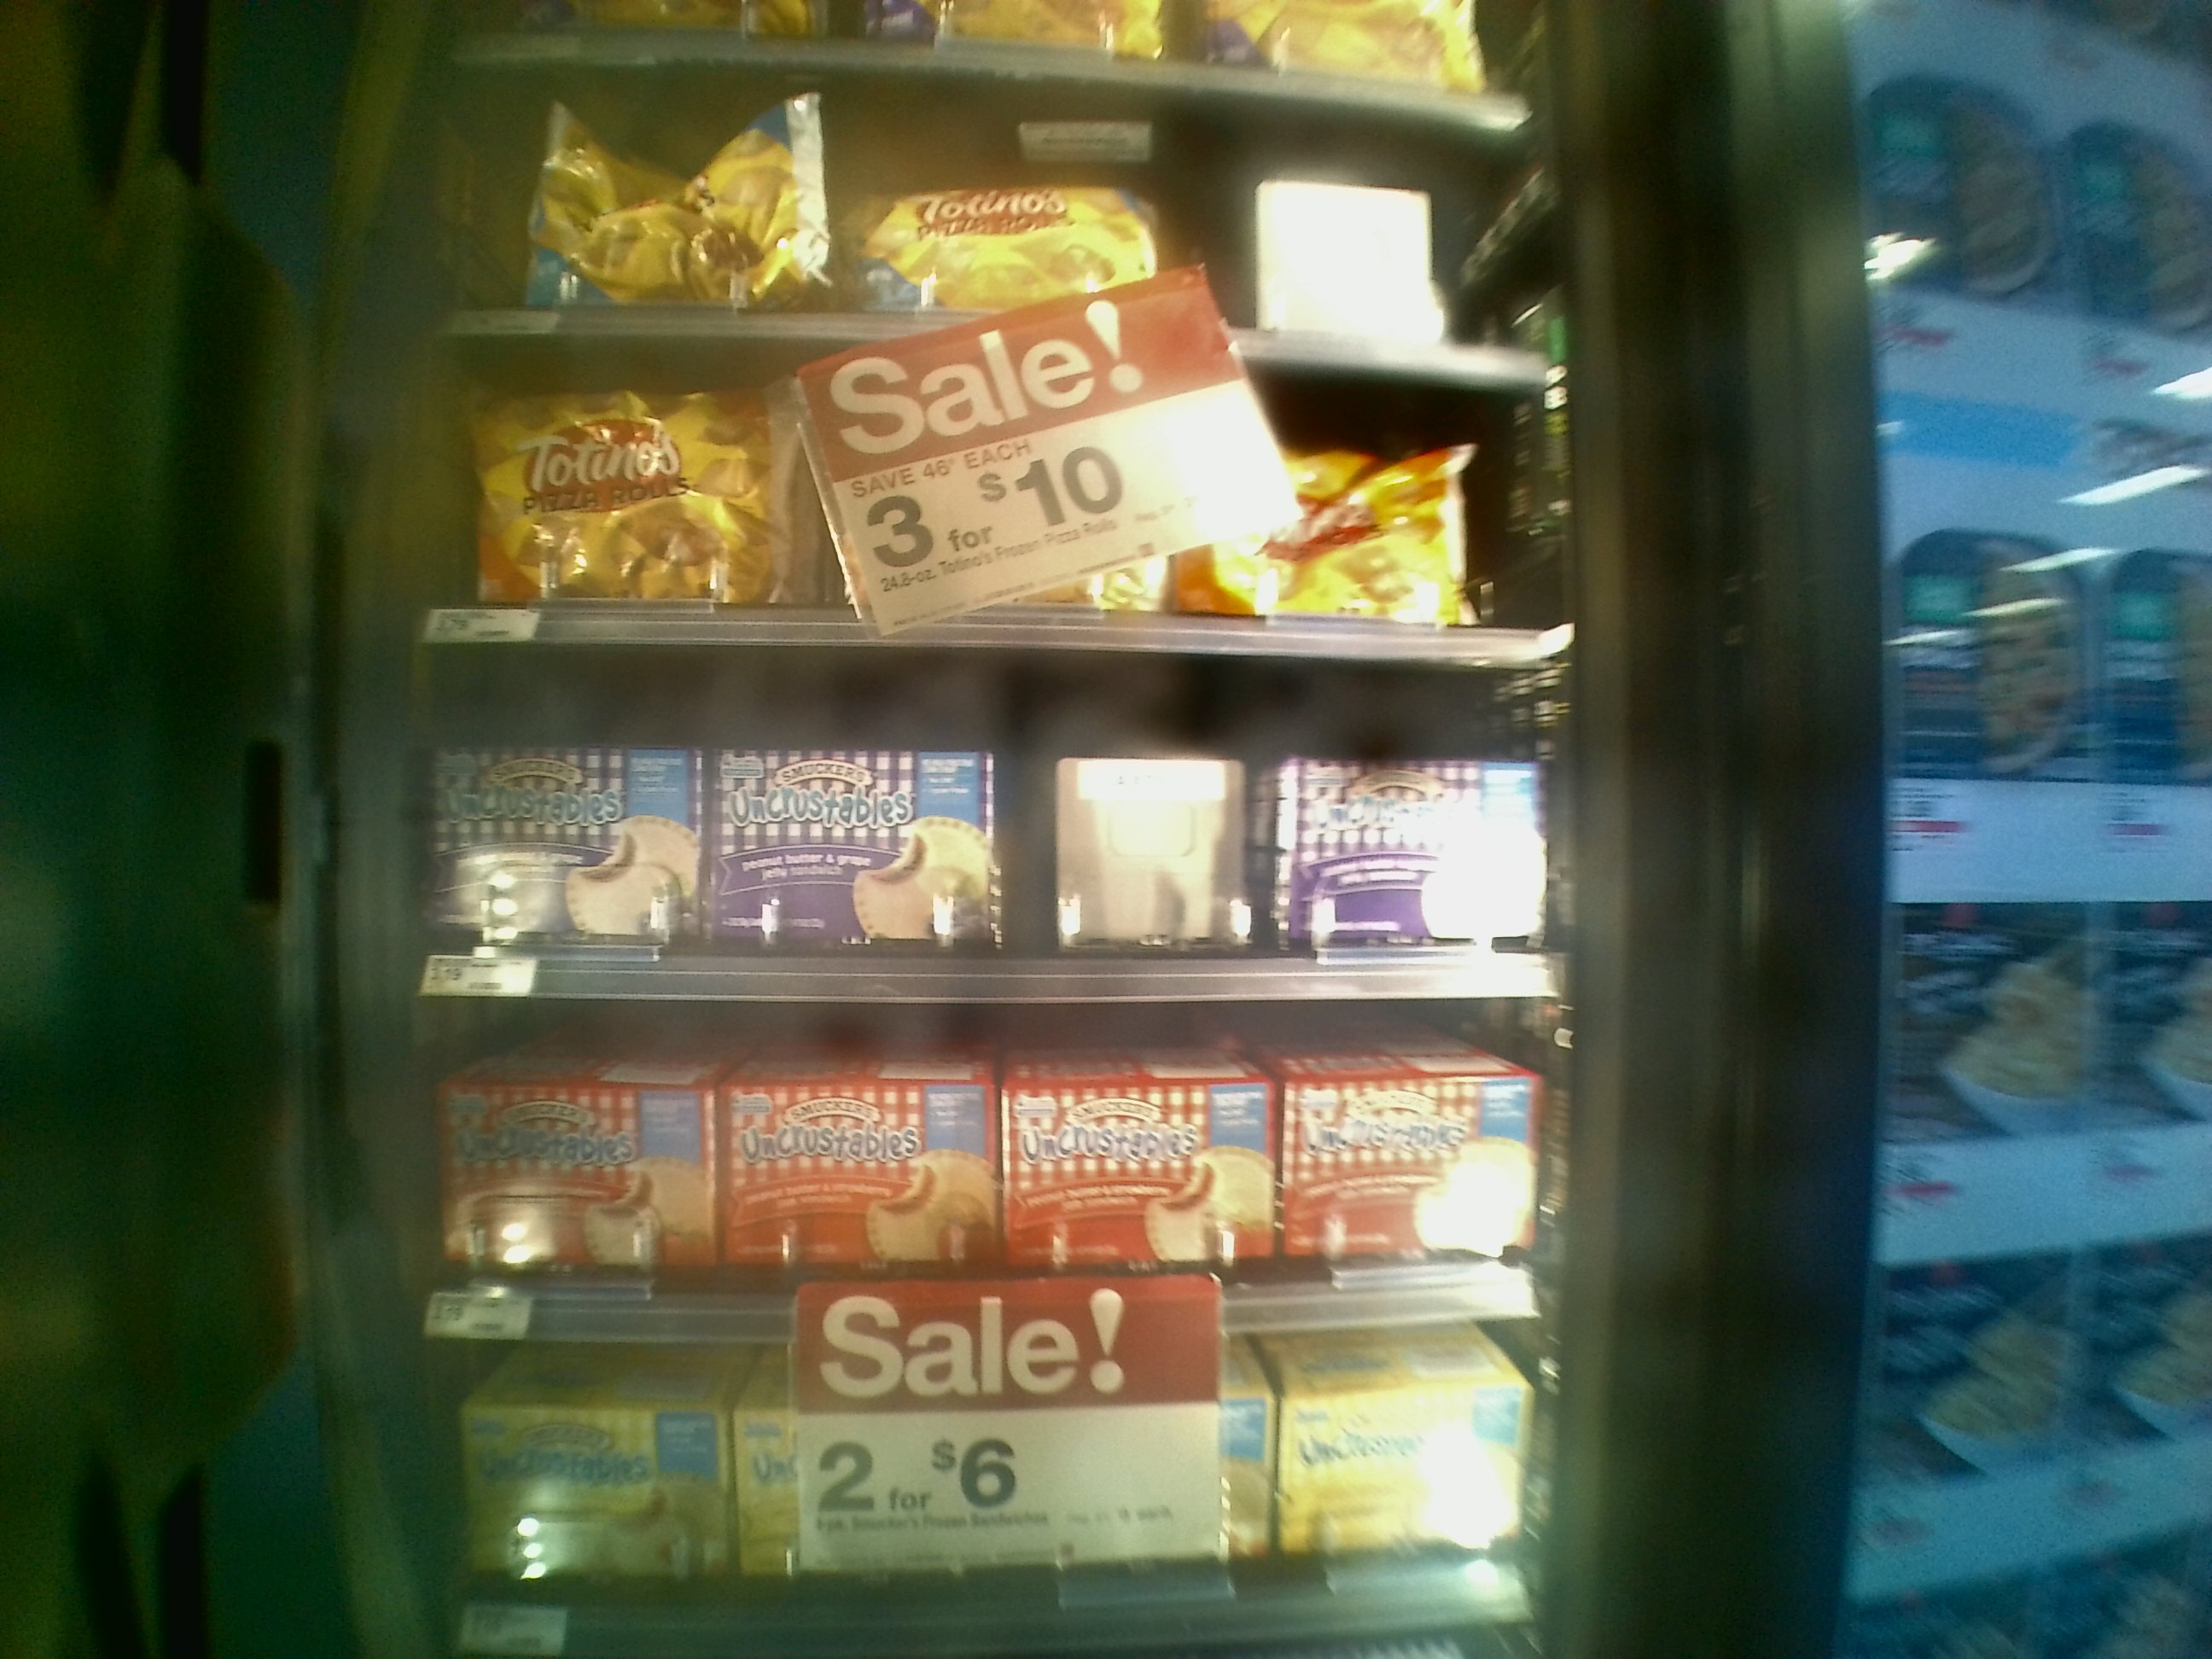shelf: (374, 660, 1569, 1014), (409, 54, 1564, 389), (394, 362, 1571, 669), (387, 1014, 1550, 1324), (408, 1337, 1545, 1631)
